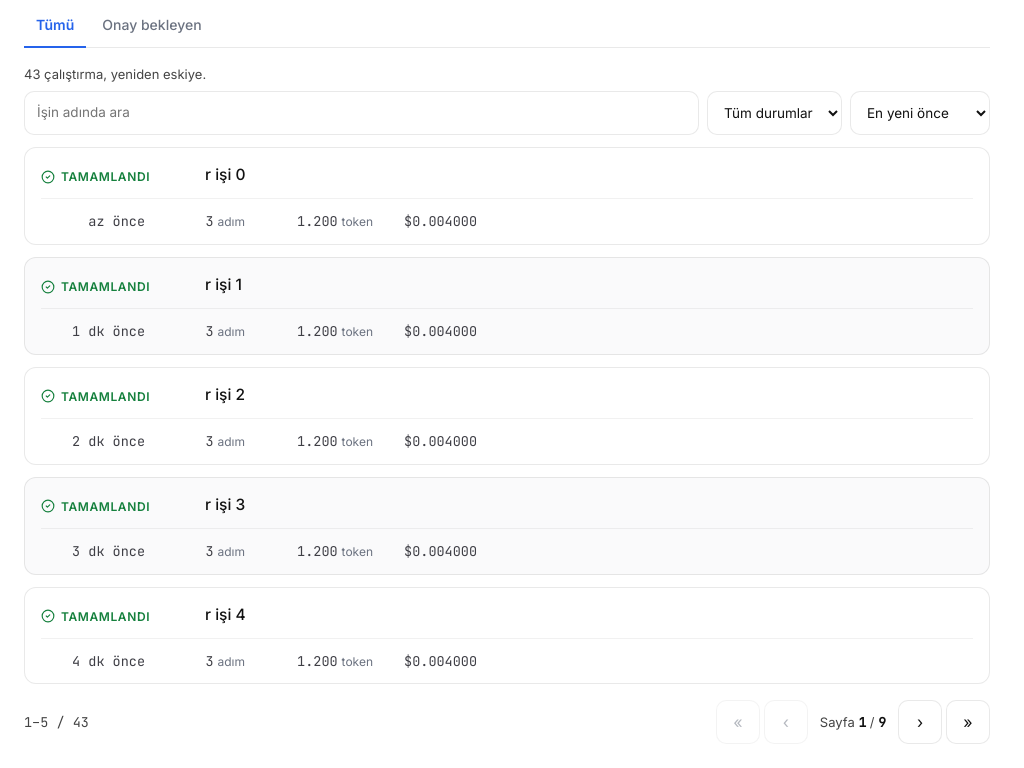
Test case: the_pager_is_turkish_and_says_where_in_the_log_the_reader_is
(page scrolled)
Expected: the text "r işi 0" is shown, x1=205 y1=165 x2=245 y2=184
Expected: the text "1–5 / 43" is shown, x1=24 y1=712 x2=89 y2=733
Click the button named "Sonraki sayfa" at (920, 722), box x1=898 y1=700 x2=942 y2=744
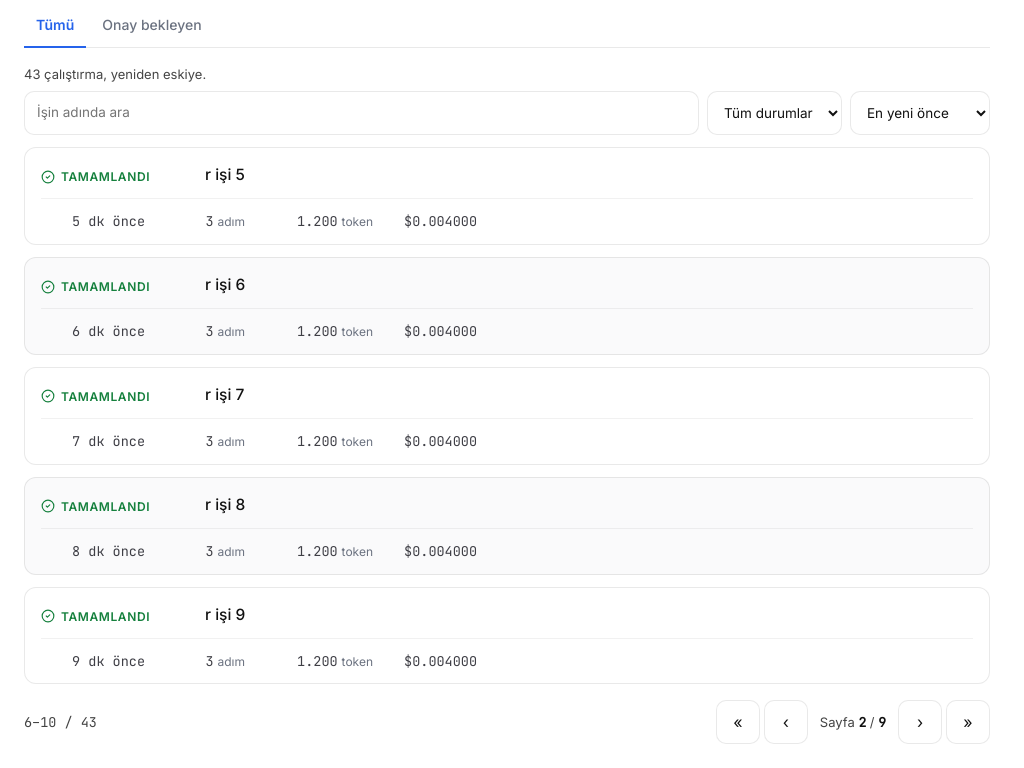
Expected: the text "6–10 / 43" is shown, x1=24 y1=712 x2=97 y2=733
Expected: the text "r işi 5" is shown, x1=205 y1=165 x2=245 y2=184
Expected: the button "r işi 0" is gone
Click the button named "Son sayfa" at (968, 722), box x1=946 y1=700 x2=990 y2=744
(page scrolled)
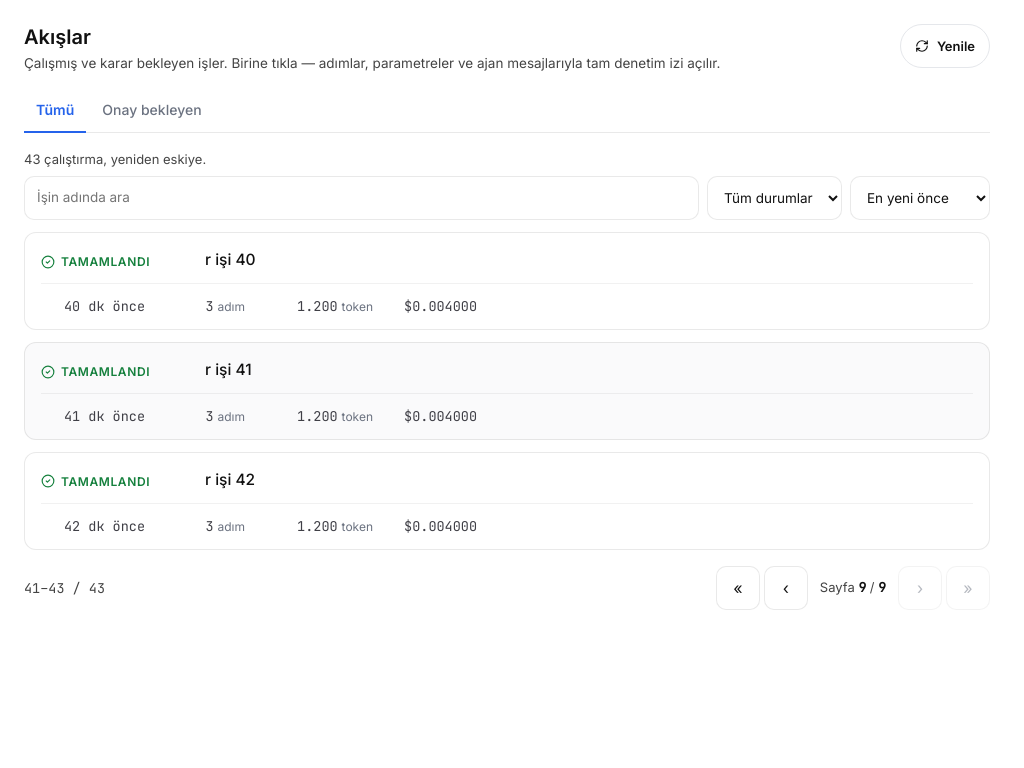
Expected: the text "41–43 / 43" is shown, x1=24 y1=578 x2=105 y2=598
Expected: the number of list items is 3, x1=24 y1=232 x2=990 y2=330; x1=24 y1=342 x2=990 y2=440; x1=24 y1=452 x2=990 y2=550
